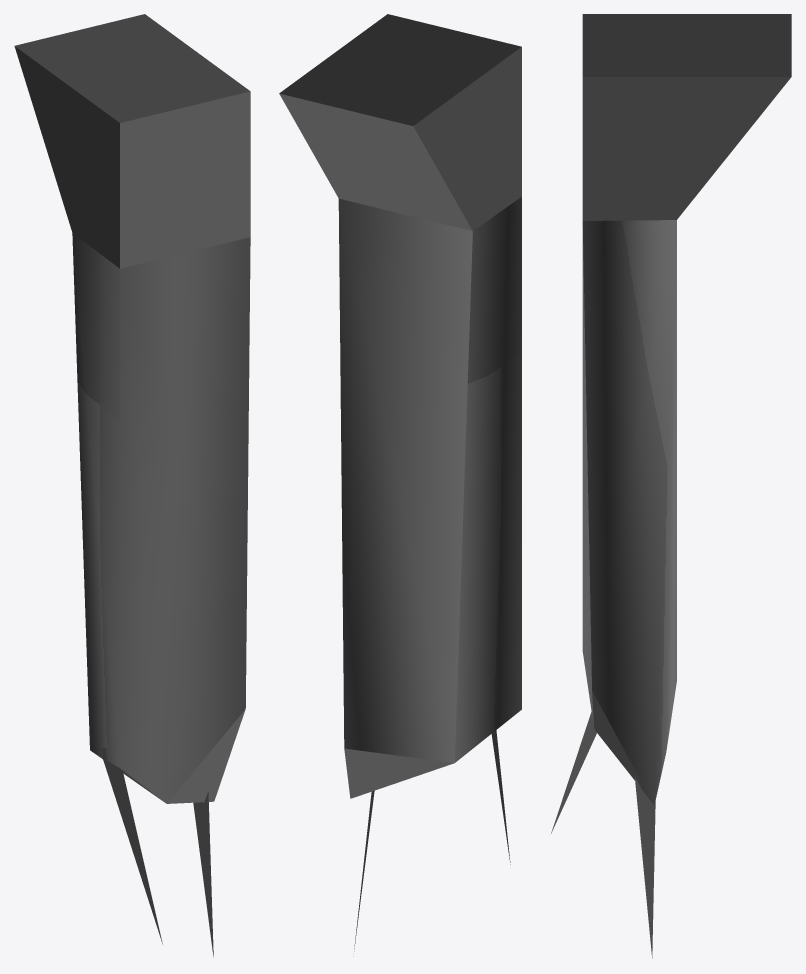
Rendered from stat_bridge3.glb.
3 views of the same model, side by side, from view 1: azimuth 30°, elevation 25°; view 2: azimuth 150°, elevation 25°; view 3: azimuth 270°, elevation 25° (orthographic). The views are drawn at different scales.
Parts seen in each view (by area): view 1: group_13; view 2: group_13; view 3: group_13.
Part boxes in pixels (left/top/right/bottom): group_13: left=14, top=14, right=250, bottom=957; group_13: left=279, top=14, right=521, bottom=951; group_13: left=551, top=14, right=791, bottom=958.
Size of the model in its own units: 2498 by 16350 by 4043.
1 material, 1 textured.
